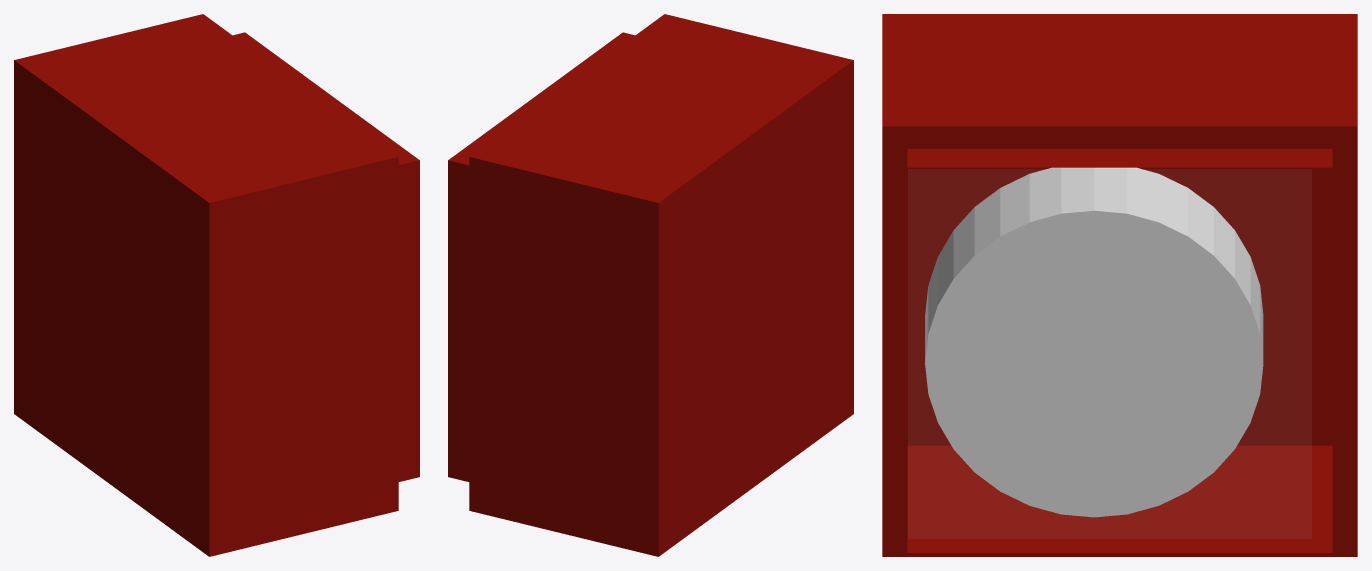
Rendered from matafuegos.fbx.
The picture shows the model from 3 angles, left to right: view 1: azimuth 30°, elevation 25°; view 2: azimuth 150°, elevation 25°; view 3: azimuth 270°, elevation 25°; orthographic projection. The views are drawn at different scales.
Parts seen in each view (by area): view 1: Cube; view 2: Cube; view 3: Cube, Cylinder.
Part boxes in pixels (x1,y1,x2,y2): Cube: (14, 14, 419, 556); Cube: (448, 14, 853, 556); Cube: (882, 14, 1357, 556); Cylinder: (925, 167, 1263, 517).
Size of the model in its own units: 131 by 200 by 200.
